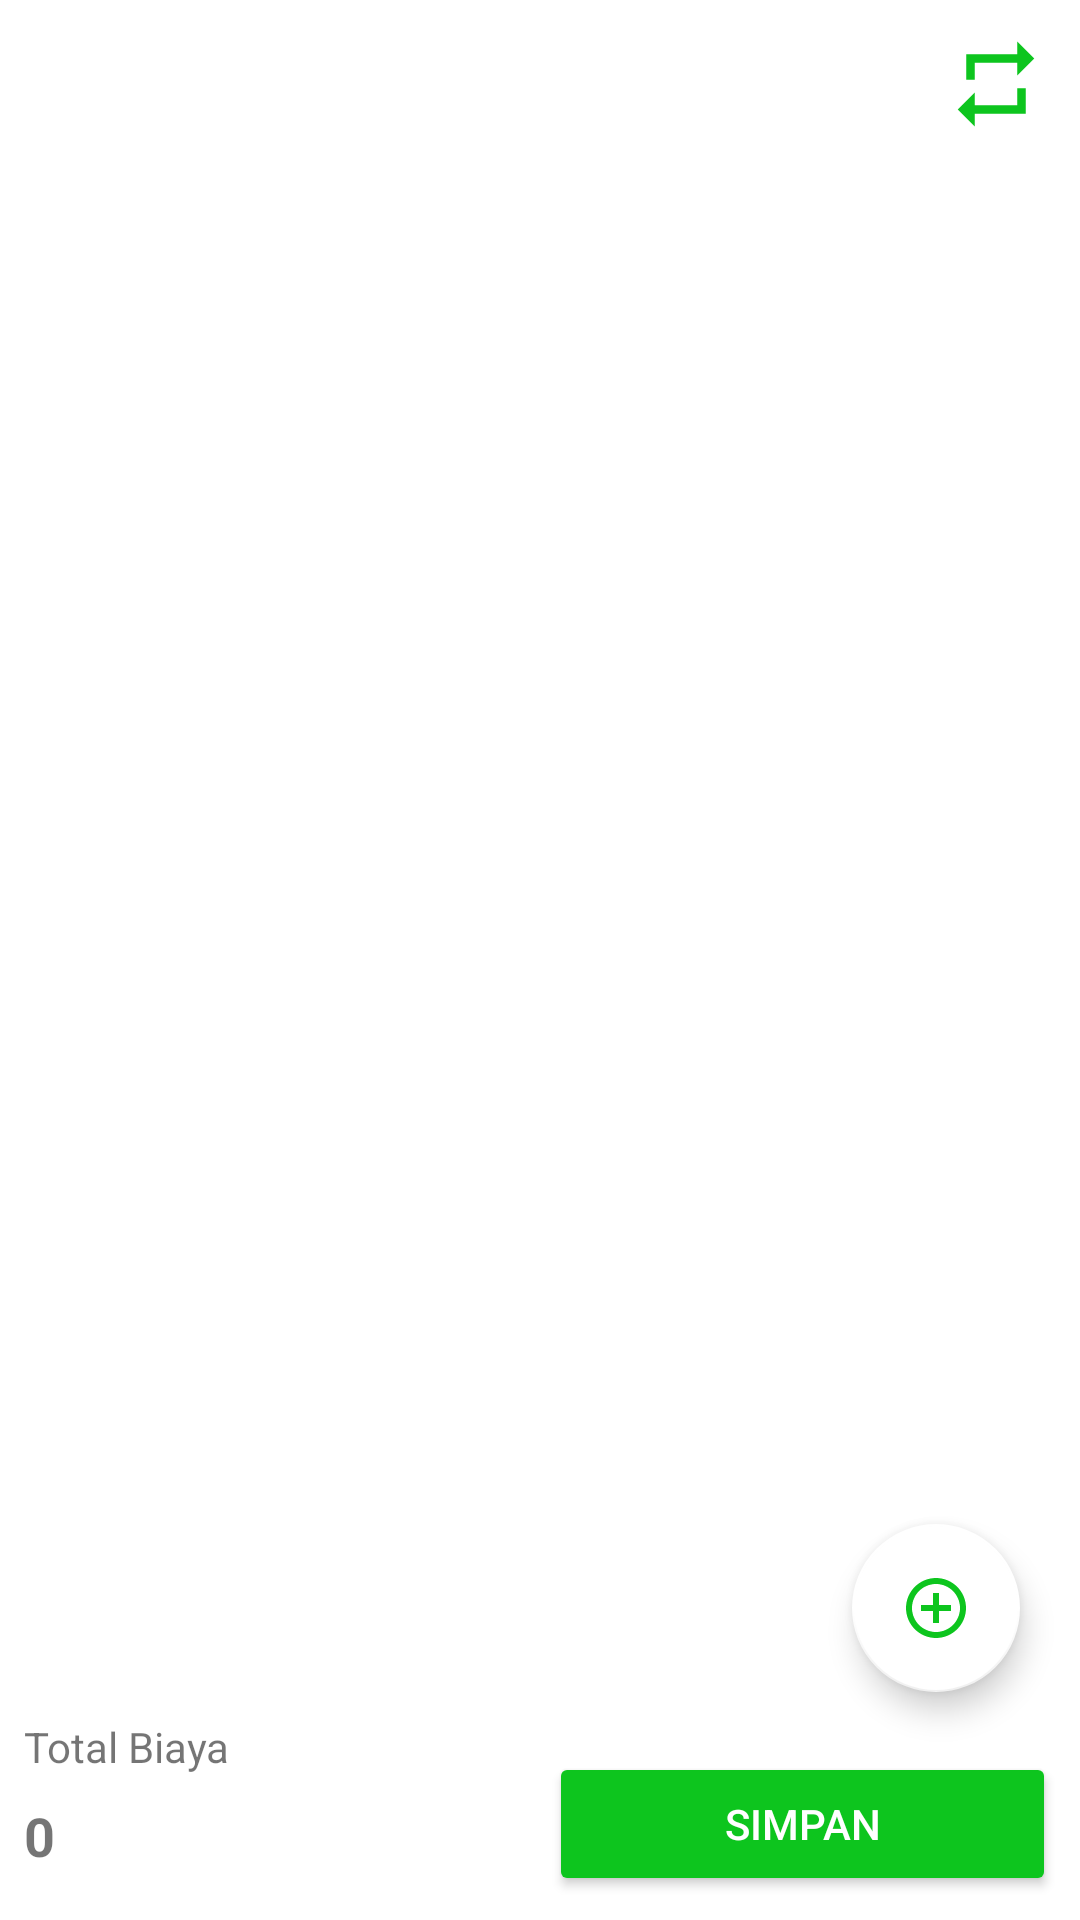

Named icons in this screenshot (1080px×1920px) and their centers, (x=x, y=y):
control point: (x=912, y=1611)
repeat: (x=996, y=84)
